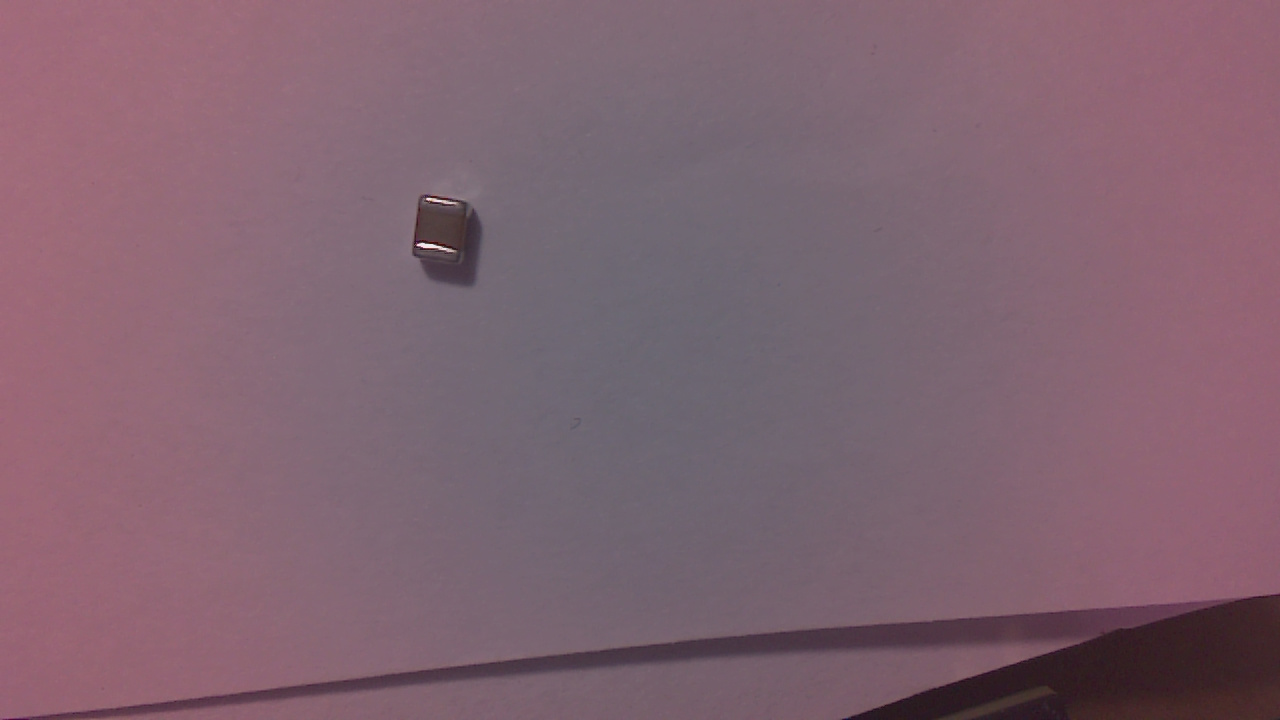Condensator: (414, 198, 482, 276)
